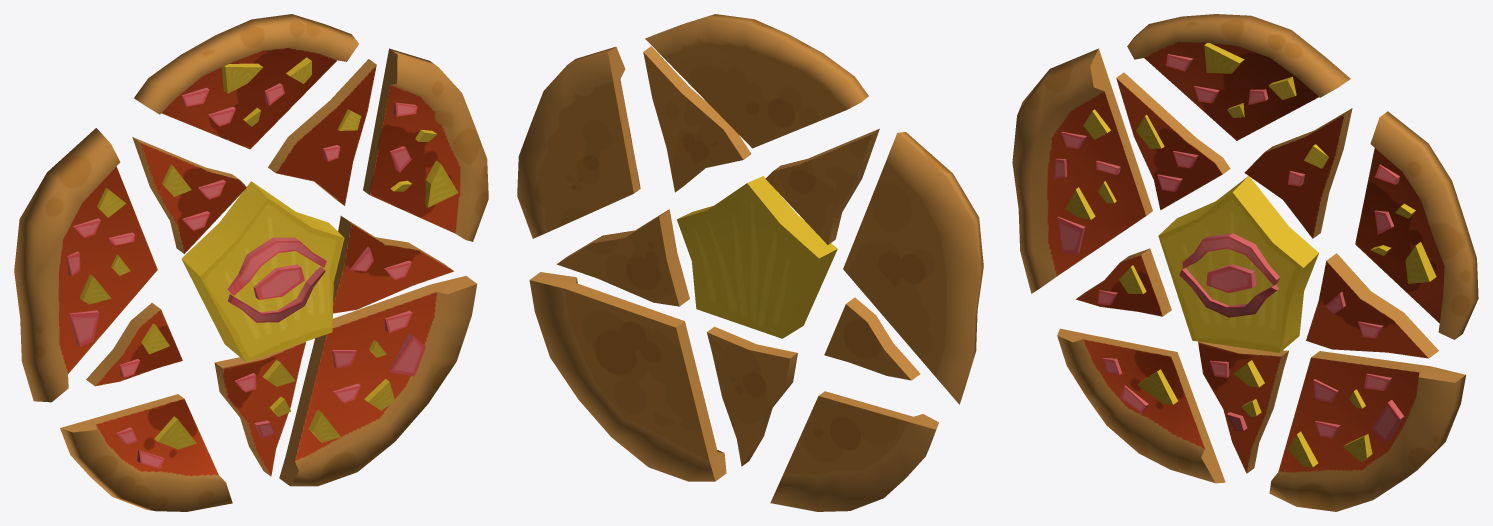
Rendered from pizza_mob_model.fbx.
3 views of the same model, side by side, from view 1: azimuth 30°, elevation 25°; view 2: azimuth 150°, elevation 25°; view 3: azimuth 330°, elevation 25° (orthographic).
Parts seen in each view (by area): view 1: mob_pizza; view 2: mob_pizza; view 3: mob_pizza.
Boxes of the visible parts, <box> form: mob_pizza: <box>14,14,488,511</box>; mob_pizza: <box>517,14,983,511</box>; mob_pizza: <box>1012,14,1478,511</box>.
Bounding box in the file's own units: 9.29 × 9.08 × 1.02.
